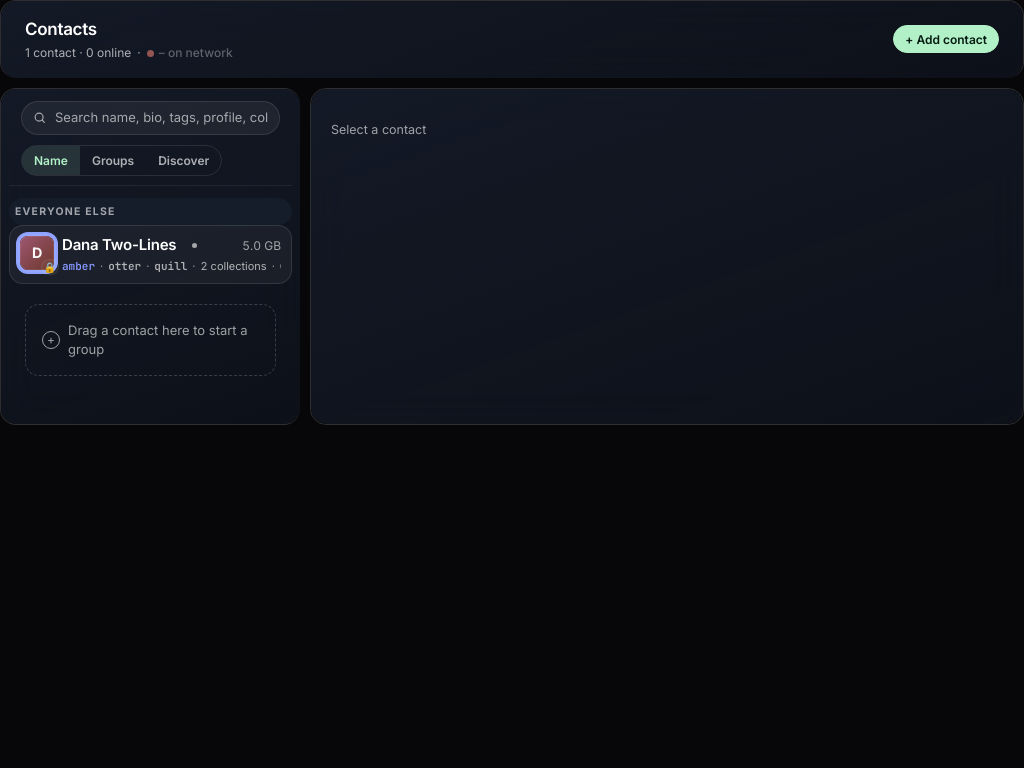
QURATOR-368c — the moved facts render in the right pane › selecting the contact shows the full bio and the collections list in .detail-pane
Click the option with class "contact-card": point(150, 255) 9,226 -> 292,284
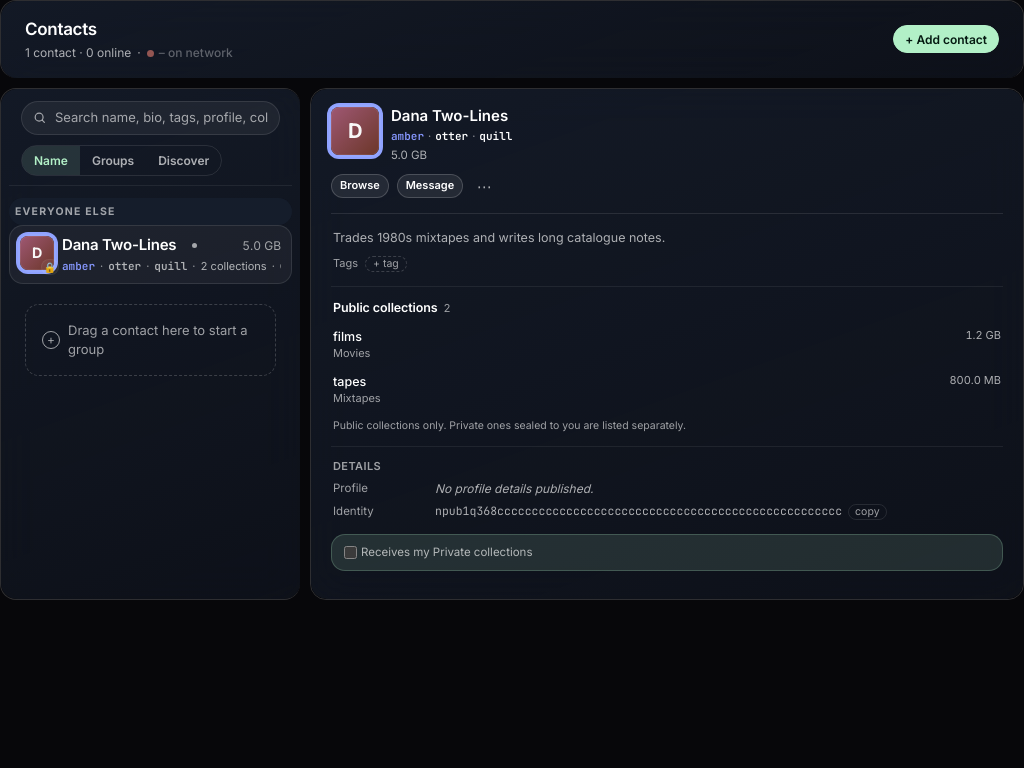
Expected: the text "Trades 1980s mixtapes and writes long catalogue notes." is shown, 333,230 -> 665,245
Expected: the number of elements with class "cpop-row" is 2, 331,323 -> 1003,367; 331,368 -> 1003,412
Expected: the text with class "cpop-alias" reads "films", 333,329 -> 362,344
